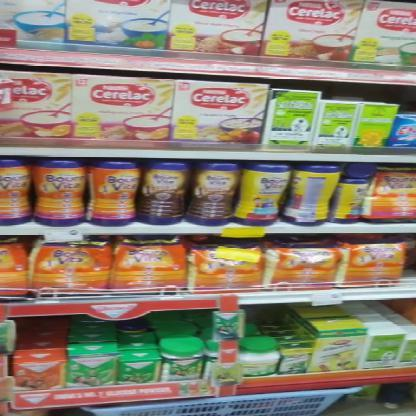Glucon D Regular 1-KG: (64, 354, 113, 388), (115, 351, 158, 383)
Glucon D Regular 2-KG: (160, 338, 204, 382)
